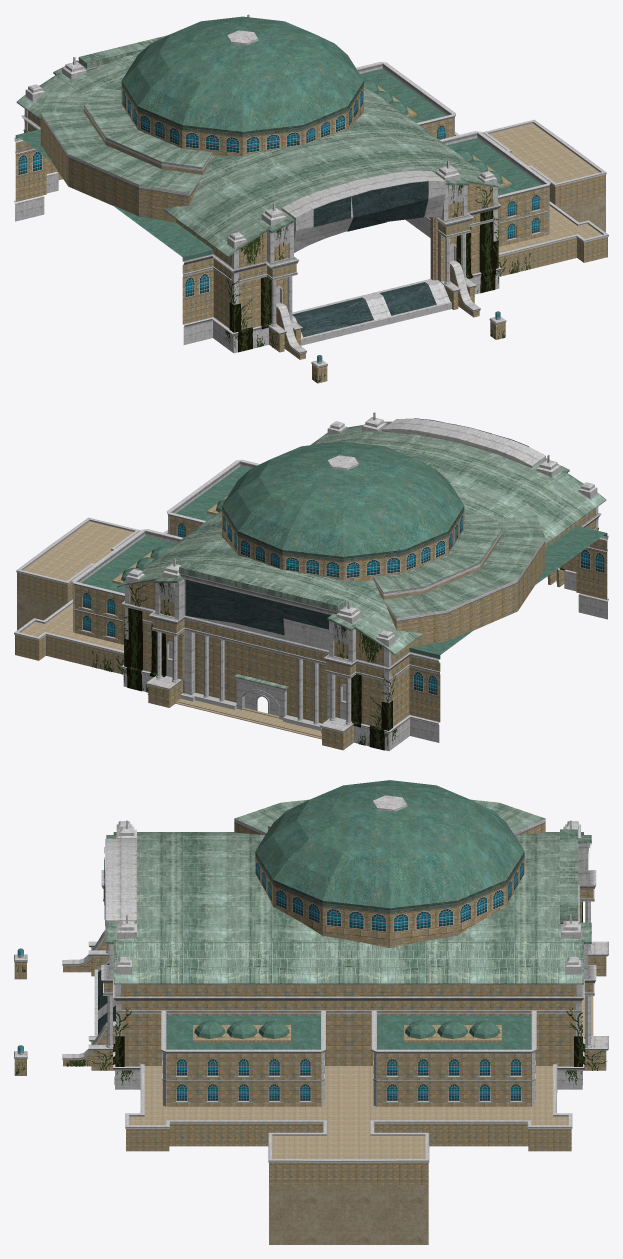
Rendered from thm_nboo_thed_hangar_r0_mesh_l0.fbx.
3 renders of one model, top to bottom at view 1: azimuth 30°, elevation 25°; view 2: azimuth 150°, elevation 25°; view 3: azimuth 270°, elevation 25°, orthographic. The views are drawn at different scales.
Visible parts, largest first — view 1: mesh_node; view 2: mesh_node; view 3: mesh_node.
Part boxes in pixels (box(x1,y1,x2,y2)): mesh_node: box(14, 14, 608, 383); mesh_node: box(14, 412, 608, 750); mesh_node: box(14, 780, 608, 1244).
Size of the model in its own units: 201 by 97.99 by 192.
